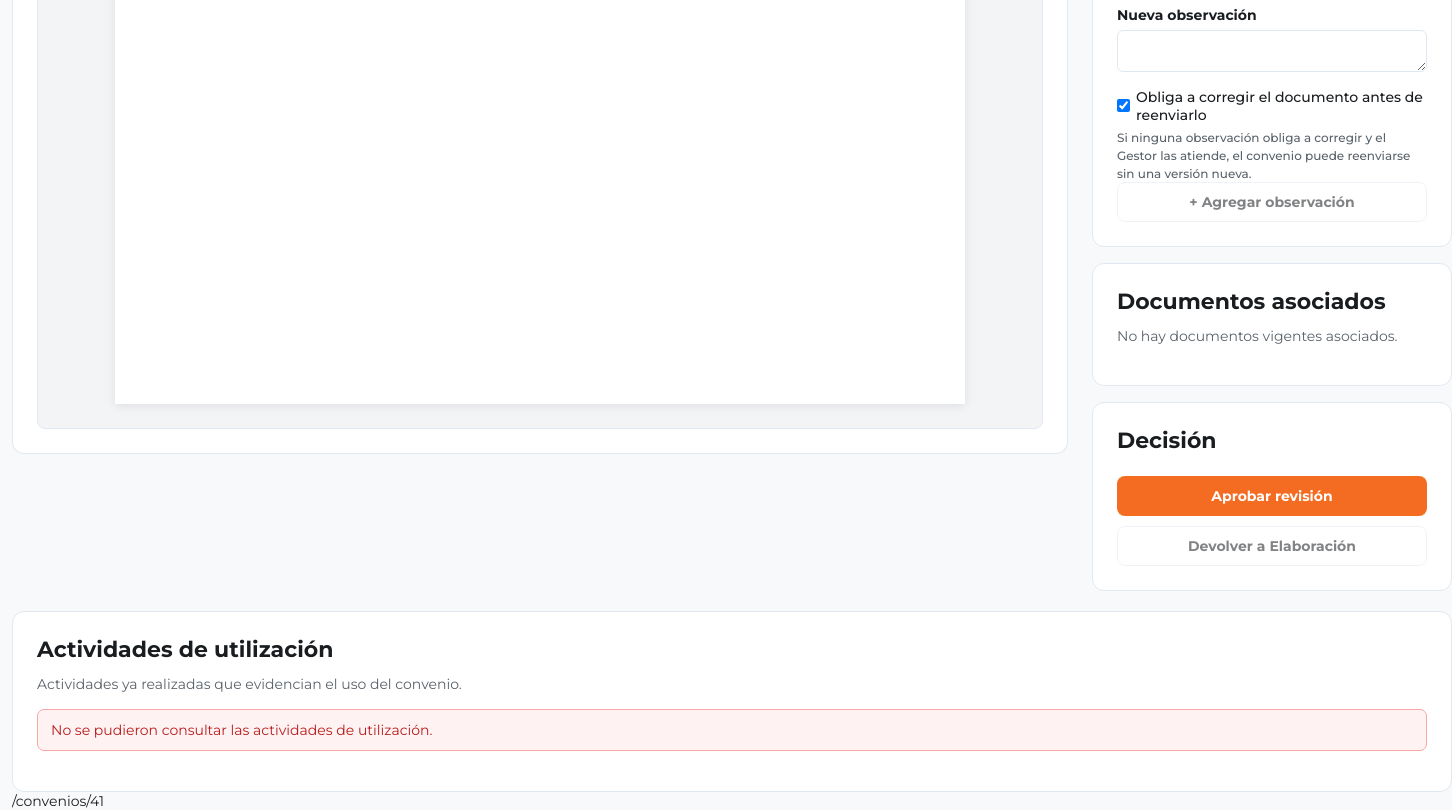
Test: CA-01 (#176): redirección posterior a la aprobación jurídica de convenios › redirige al historial del convenio tras aprobar un convenio manual sin intentar cargar una solicitud inexistente
(page scrolled)
Step 1. Click the button "Aprobar revisión" → {"x": 1272, "y": 496}, box [1117, 476, 1427, 516]
(page scrolled)
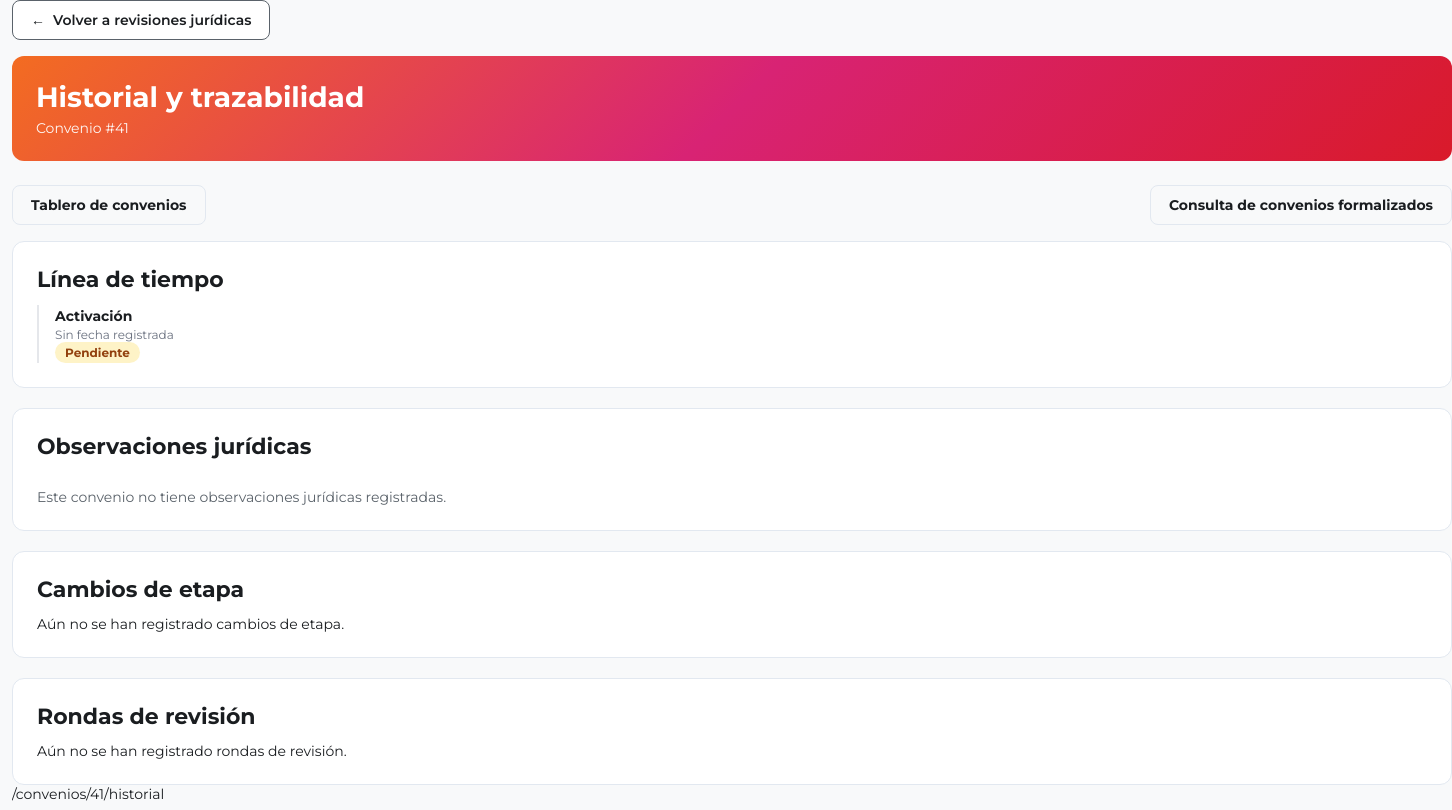
expect the text with test id "ruta-actual" reads "/convenios/41/historial": met, box [12, 785, 164, 803]
expect the heading "Historial y trazabilidad" is shown: met, box [36, 80, 364, 114]
